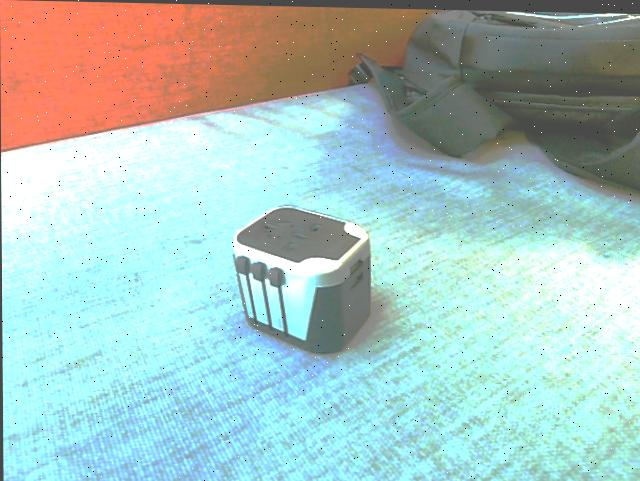adapter: (230, 201, 371, 353)
